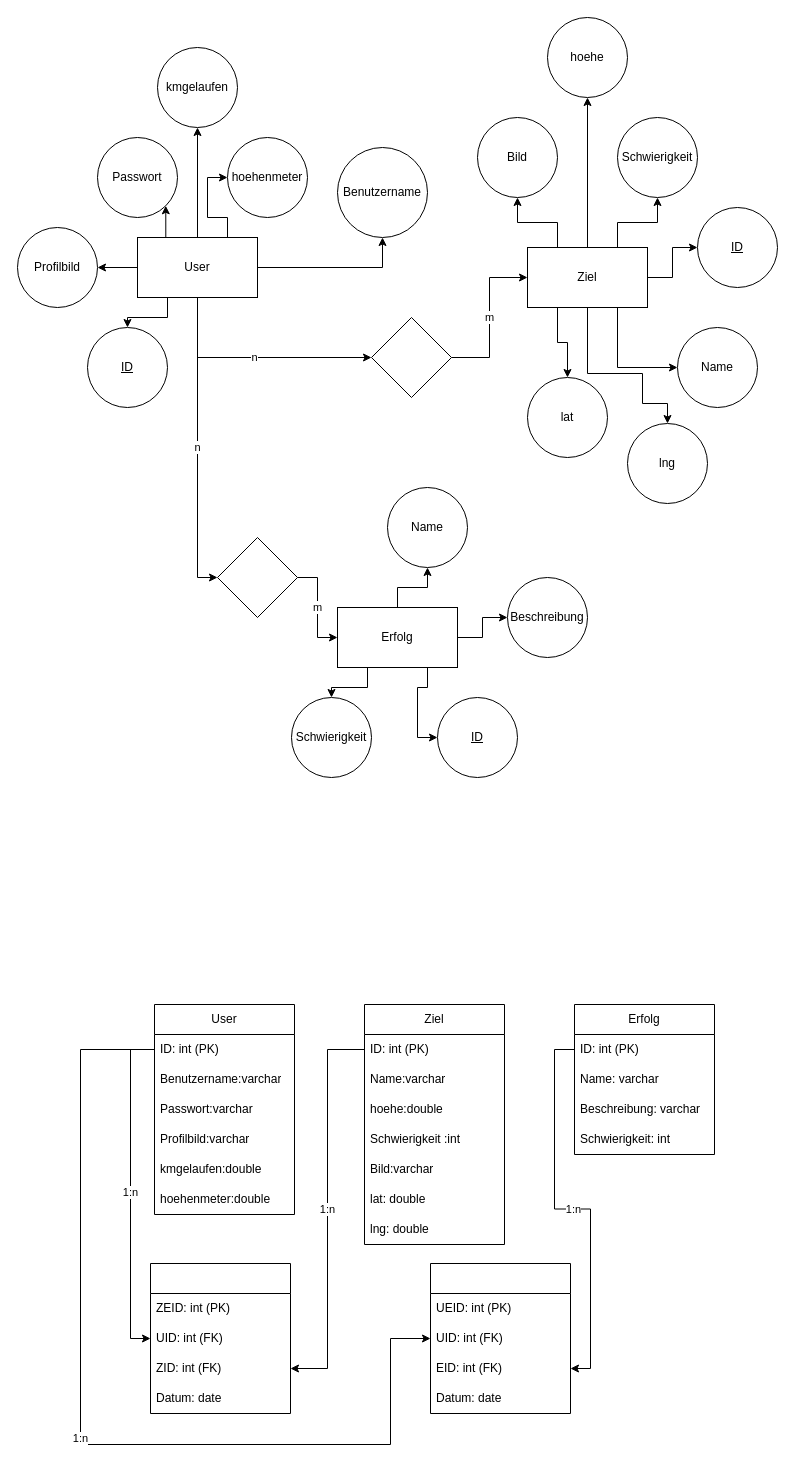
This 795x1470 diagram has some shape labels left out. The shapes that lost their labels are listed below. From the top down, each one's box as (x1, y1, x2, y2) in pixels, then its label:
(370, 316, 452, 398): besteigt
(216, 536, 298, 618): freischalten
(150, 1262, 290, 1414): ZielErreicht
(430, 1262, 570, 1414): UserErfolg
